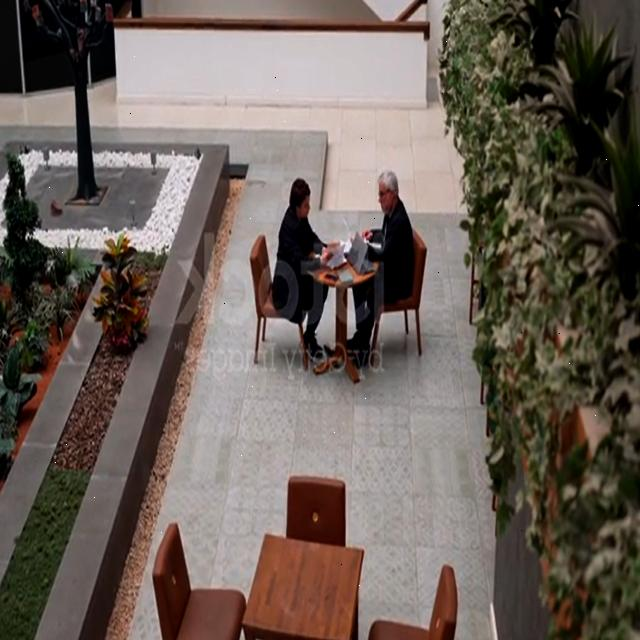sitting: (347, 171, 414, 358), (272, 178, 335, 357)
